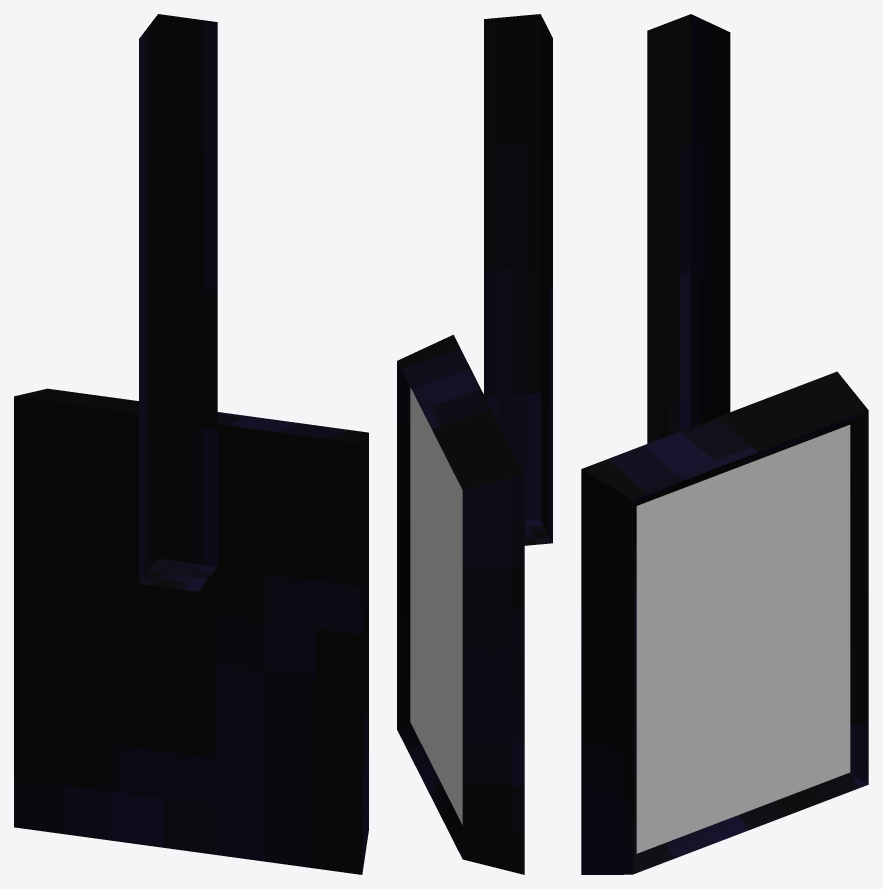
The model's file is menu.fbx.
The picture shows the model from 3 angles, left to right: view 1: azimuth 30°, elevation 25°; view 2: azimuth 150°, elevation 25°; view 3: azimuth 270°, elevation 25°; orthographic projection. The views are drawn at different scales.
Visible parts, largest first — view 1: 6.001; view 2: 6.001, 6.002; view 3: 6.001, 6.002.
Part boxes in pixels (left/top/right/bottom): 6.001: left=14, top=14, right=368, bottom=874; 6.001: left=397, top=14, right=552, bottom=874; 6.002: left=410, top=387, right=462, bottom=824; 6.001: left=581, top=14, right=868, bottom=874; 6.002: left=636, top=425, right=850, bottom=853.
Bounding box in the file's own units: 115 × 372 × 123.
